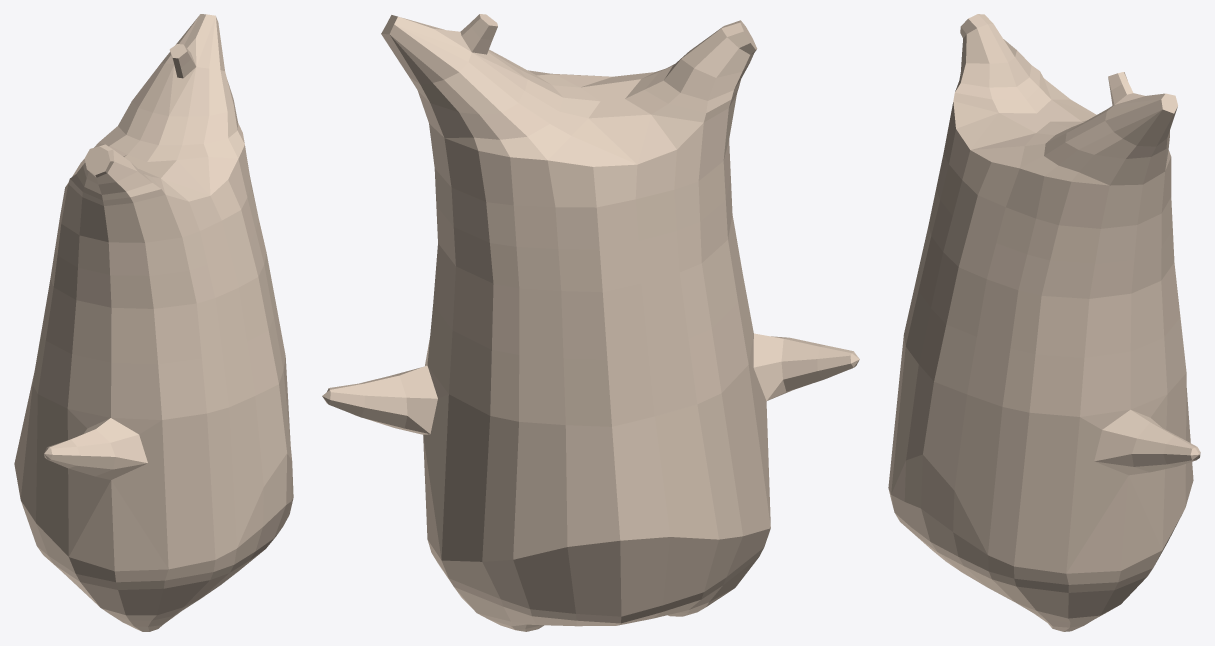
File: frame_0065.obj
3 renders of one model, left to right at view 1: azimuth 30°, elevation 25°; view 2: azimuth 150°, elevation 25°; view 3: azimuth 270°, elevation 25°, orthographic. The views are drawn at different scales.
Visible parts, largest first — view 1: korok; view 2: korok; view 3: korok.
Part boxes in pixels (x1=…): korok: x1=14, y1=14, x2=293, y2=631; korok: x1=322, y1=14, x2=859, y2=631; korok: x1=888, y1=14, x2=1200, y2=631.
Size of the model in its own units: 1.35 by 2.13 by 1.07.
